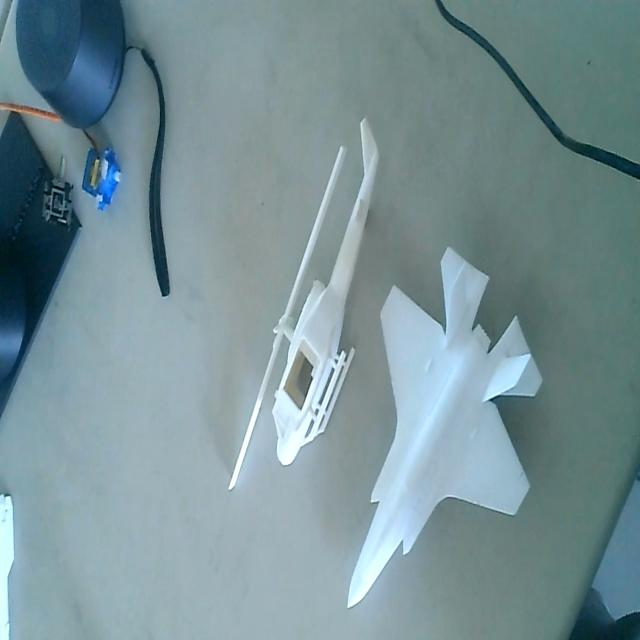Helicopter: (229, 111, 382, 491)
Jet: (347, 250, 549, 614)
